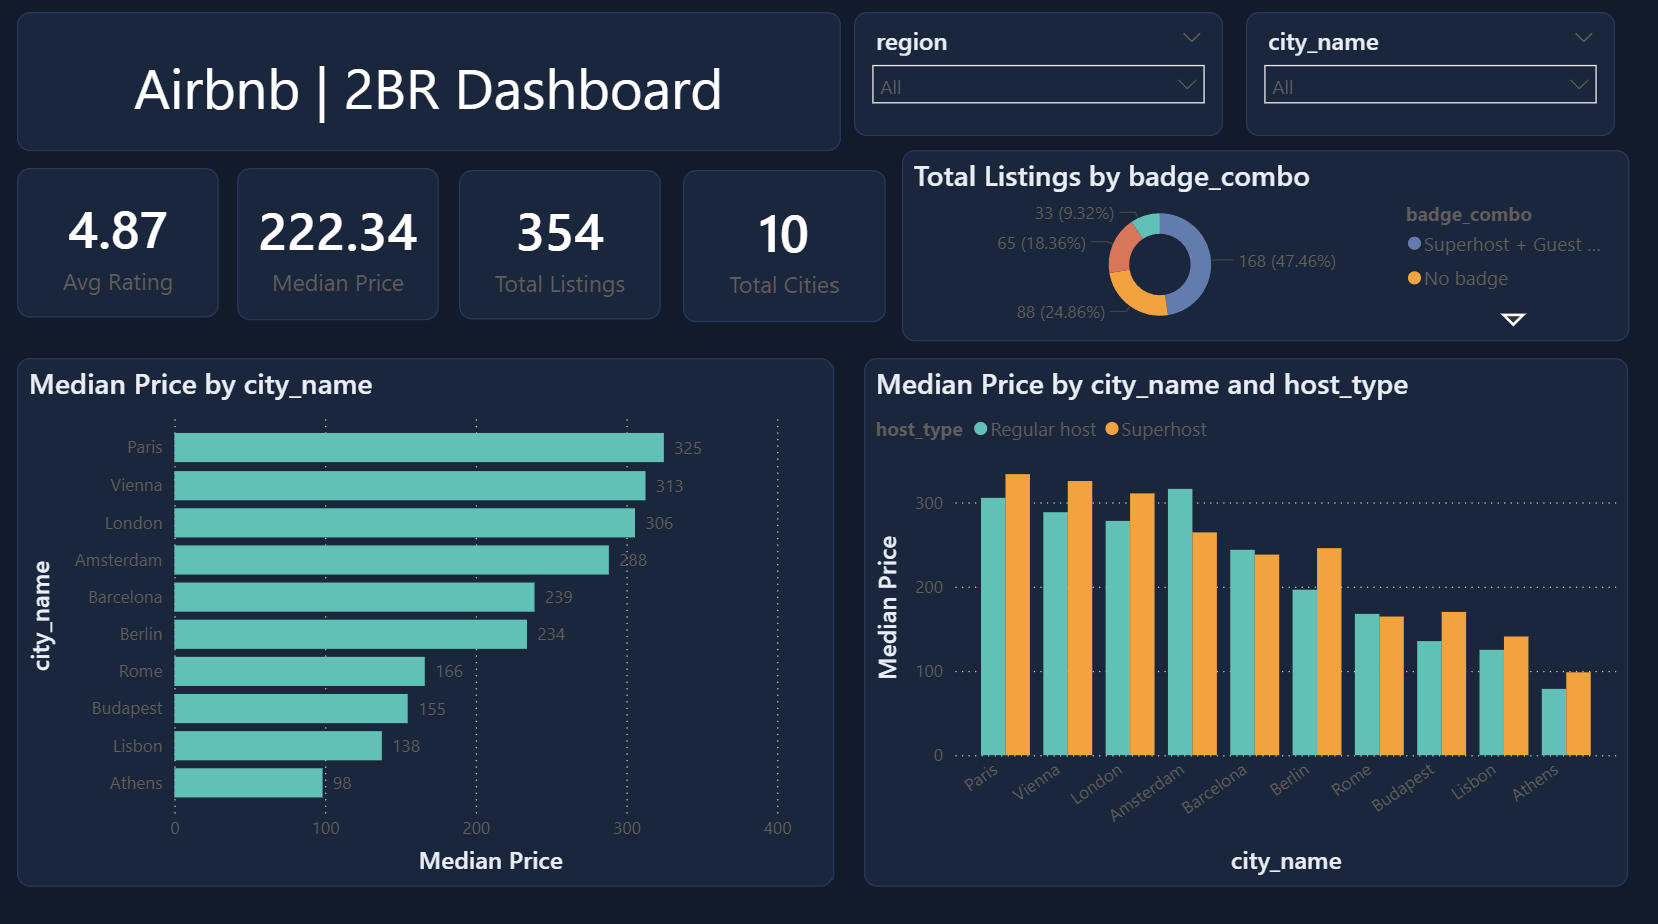

The dashboard page shown, as its layout file describes it:
{"tool":"powerbi","page":{"name":"Executive Summary","canvas":[1280,720],"ordinal":0},"visuals":[{"type":"textbox","box":[18.3,11.6,630,106.4],"z":0},{"type":"slicer","fields":{"Values":["gold dim_city.city_name"]},"box":[959.2,11.6,282.6,94.8],"z":1000},{"type":"slicer","fields":{"Values":["gold dim_city.region"]},"box":[658.3,11.6,282.6,94.8],"z":2000},{"type":"card","fields":{"Values":["gold dim_city.Total Listings"]},"box":[357.4,133,154.6,114.7],"z":3000},{"type":"card","fields":{"Values":["gold dim_city.Total Cities"]},"box":[528.6,133,154.6,116.4],"z":4000},{"type":"card","fields":{"Values":["gold dim_city.Median Price"]},"box":[186.2,131.3,154.6,116.4],"z":5000},{"type":"card","fields":{"Values":["gold dim_city.Avg Rating"]},"box":[18.3,131.3,154.6,114.7],"z":6000},{"type":"clusteredBarChart","title":"Median Price by city_name","fields":{"Category":["gold dim_city.city_name"],"Y":["gold dim_city.Median Price"]},"box":[18.3,277.6,625,403.9],"z":7000},{"type":"donutChart","fields":{"Category":["gold dim_host_badge.badge_combo"],"Y":["gold dim_city.Total Listings"]},"box":[694.9,118,556.9,146.3],"z":8000},{"type":"clusteredColumnChart","fields":{"Category":["gold dim_city.city_name"],"Y":["gold dim_city.Median Price"],"Series":["gold dim_host_badge.host_type"]},"box":[666.6,277.6,585.1,403.9],"z":9000}]}

Visuals, with their boxes in screenshot pixels (x1, y1, x2, y2), scaled from the page's 1280x720 canvas onto the 1658x924 screenshot:
textbox: left=24, top=15, right=840, bottom=151
slicer - gold dim_city.city_name: left=1242, top=15, right=1609, bottom=137
slicer - gold dim_city.region: left=853, top=15, right=1219, bottom=137
card - gold dim_city.Total Listings: left=463, top=171, right=663, bottom=318
card - gold dim_city.Total Cities: left=685, top=171, right=885, bottom=320
card - gold dim_city.Median Price: left=241, top=169, right=441, bottom=318
card - gold dim_city.Avg Rating: left=24, top=169, right=224, bottom=316
"Median Price by city_name" clusteredBarChart: left=24, top=356, right=833, bottom=875
donutChart - gold dim_host_badge.badge_combo x gold dim_city.Total Listings: left=900, top=151, right=1621, bottom=339
clusteredColumnChart - gold dim_city.city_name x gold dim_city.Median Price: left=863, top=356, right=1621, bottom=875
